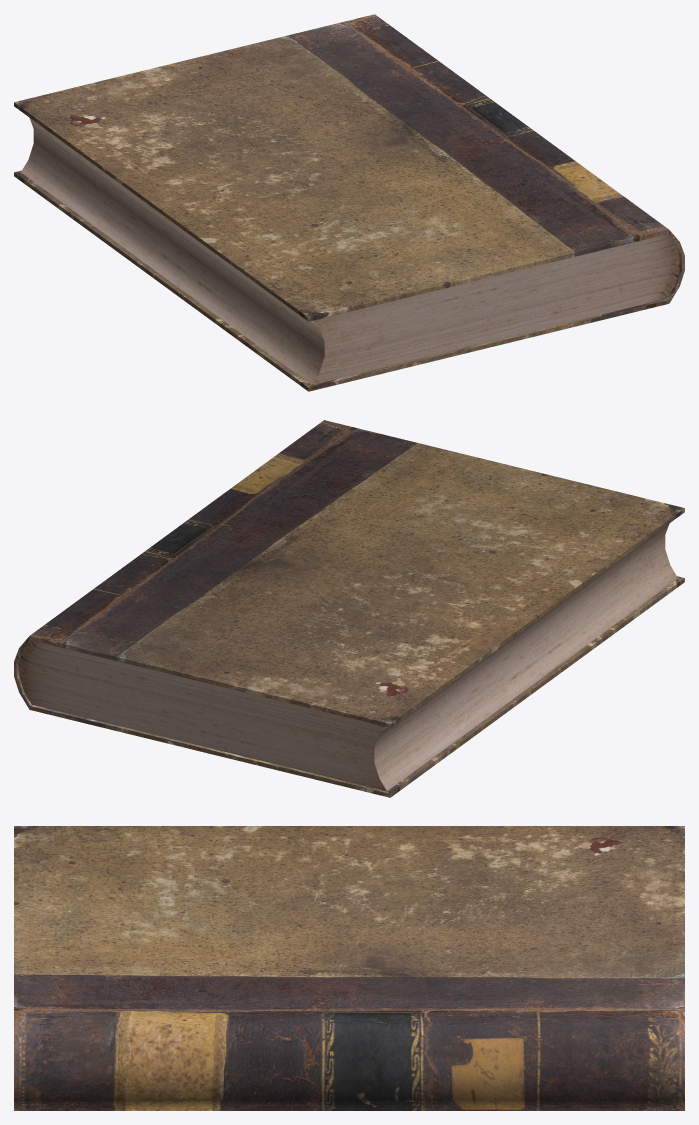
File: Buch.fbx
3 views of the same model, one above another, from view 1: azimuth 30°, elevation 25°; view 2: azimuth 150°, elevation 25°; view 3: azimuth 270°, elevation 25° (orthographic). The views are drawn at different scales.
Visible parts, largest first — view 1: Buch; view 2: Buch; view 3: Buch.
Boxes of the visible parts, box(x1,y1,x2,y2) form: Buch: box(14, 14, 684, 391); Buch: box(14, 420, 684, 797); Buch: box(14, 826, 684, 1110).
Size of the model in its own units: 0.1549 by 0.0292 by 0.21.
